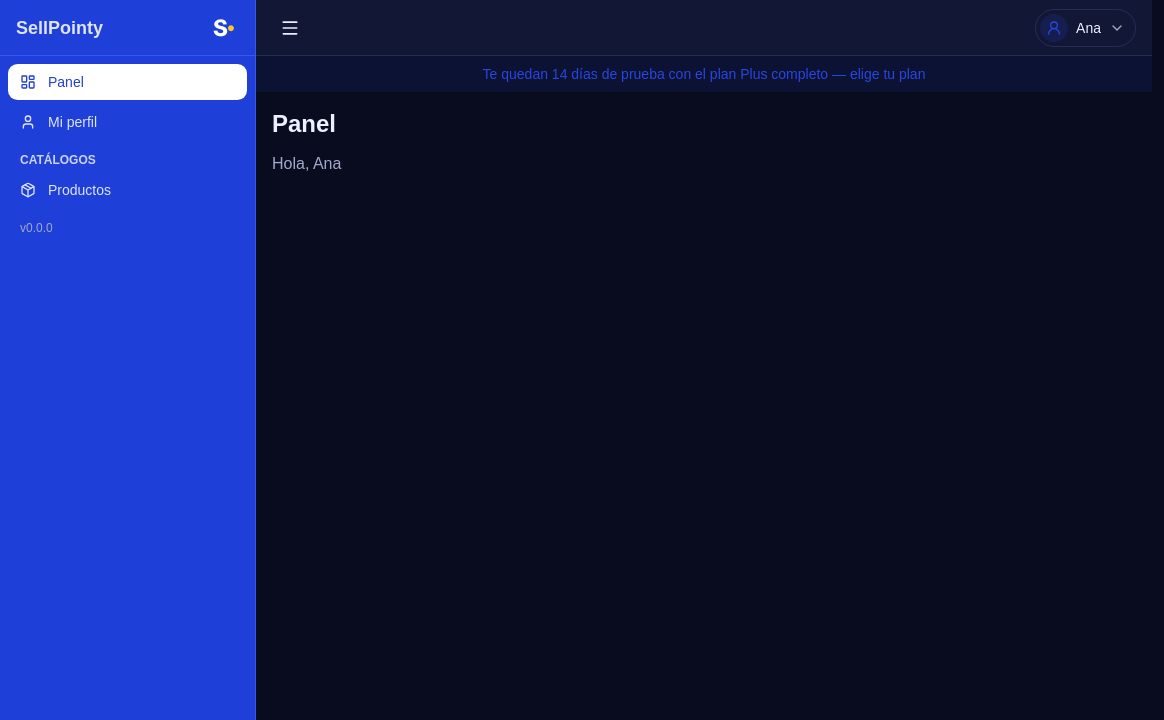
Scenario: Flujos de auth › F1-WEB-AUTH-09: el toggle colapsa el sidebar y lo anuncia con aria-expanded
What coordinates should you click on to do the following:
click the button named "Abrir o cerrar el menú"
I would click on:
 (290, 28)
Its box is [272,10,308,46].
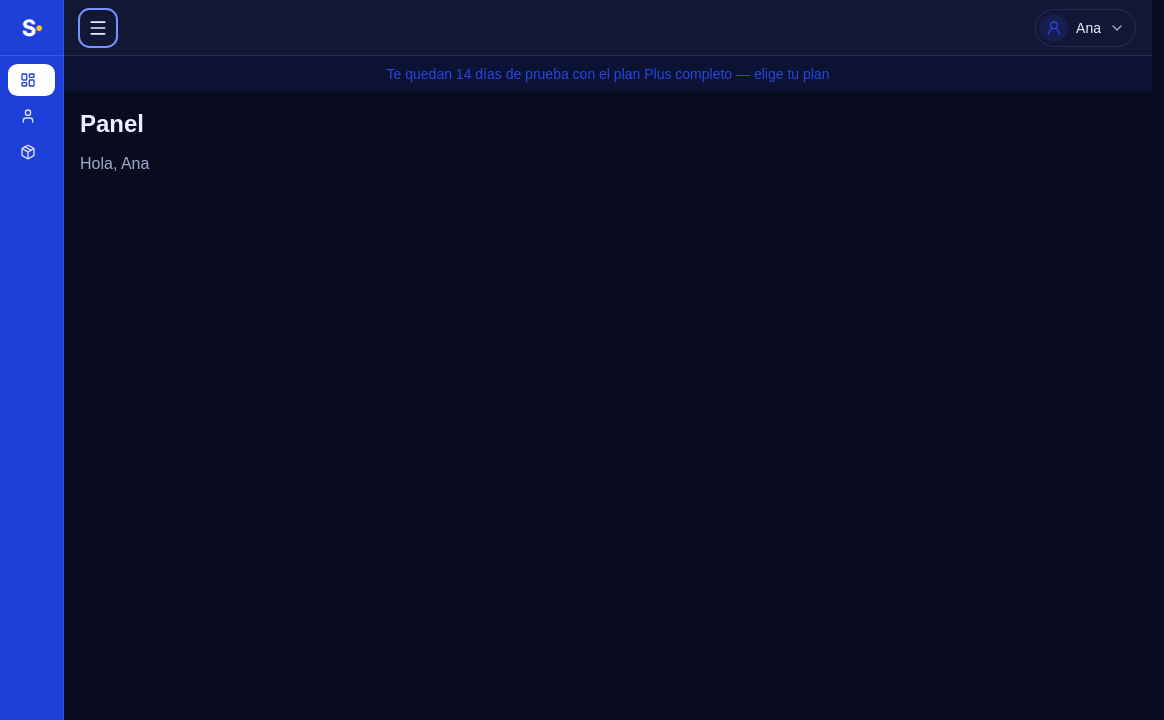
Check: the button named "Abrir o cerrar el menú" is collapsed, box [80,10,116,46]
